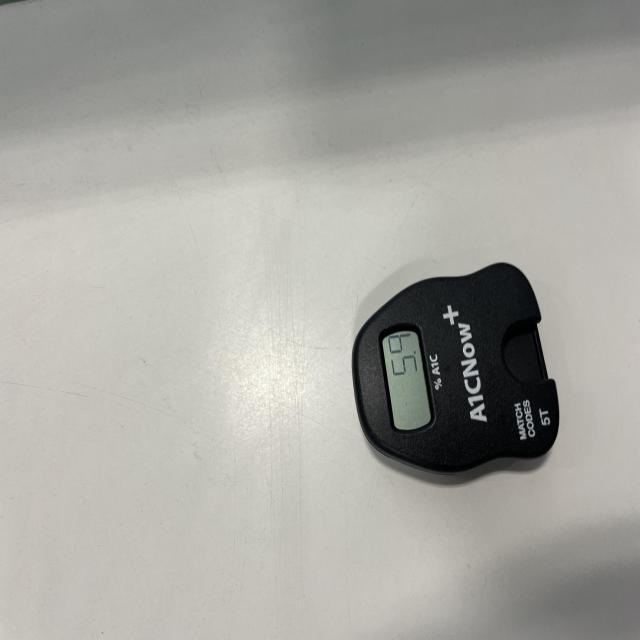hba1c: (350, 262, 560, 476)
